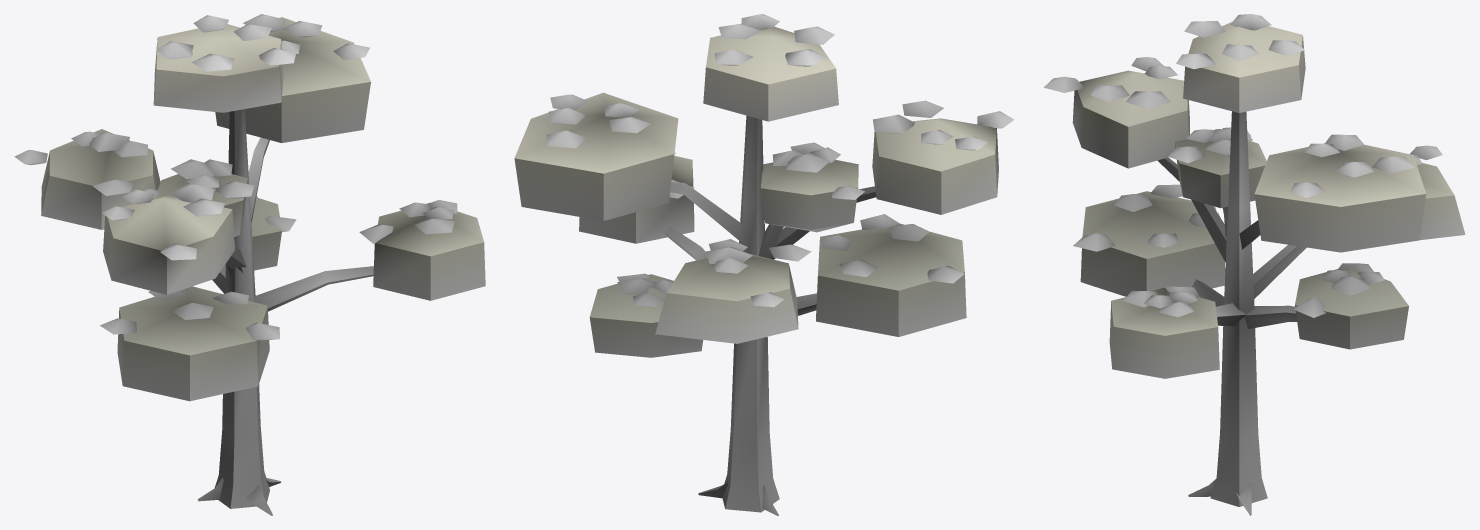
File: rata_tree.glb
3 renders of one model, left to right at view 1: azimuth 30°, elevation 25°; view 2: azimuth 150°, elevation 25°; view 3: azimuth 270°, elevation 25°, orthographic. The views are drawn at different scales.
Visible parts, largest first — view 1: Rata; view 2: Rata; view 3: Rata.
Boxes of the visible parts, x1,y1,x2,y2 form: Rata: [14, 14, 485, 515]; Rata: [514, 14, 1014, 515]; Rata: [1044, 14, 1465, 515].
Size of the model in its own units: 4.3 by 5 by 4.2.
